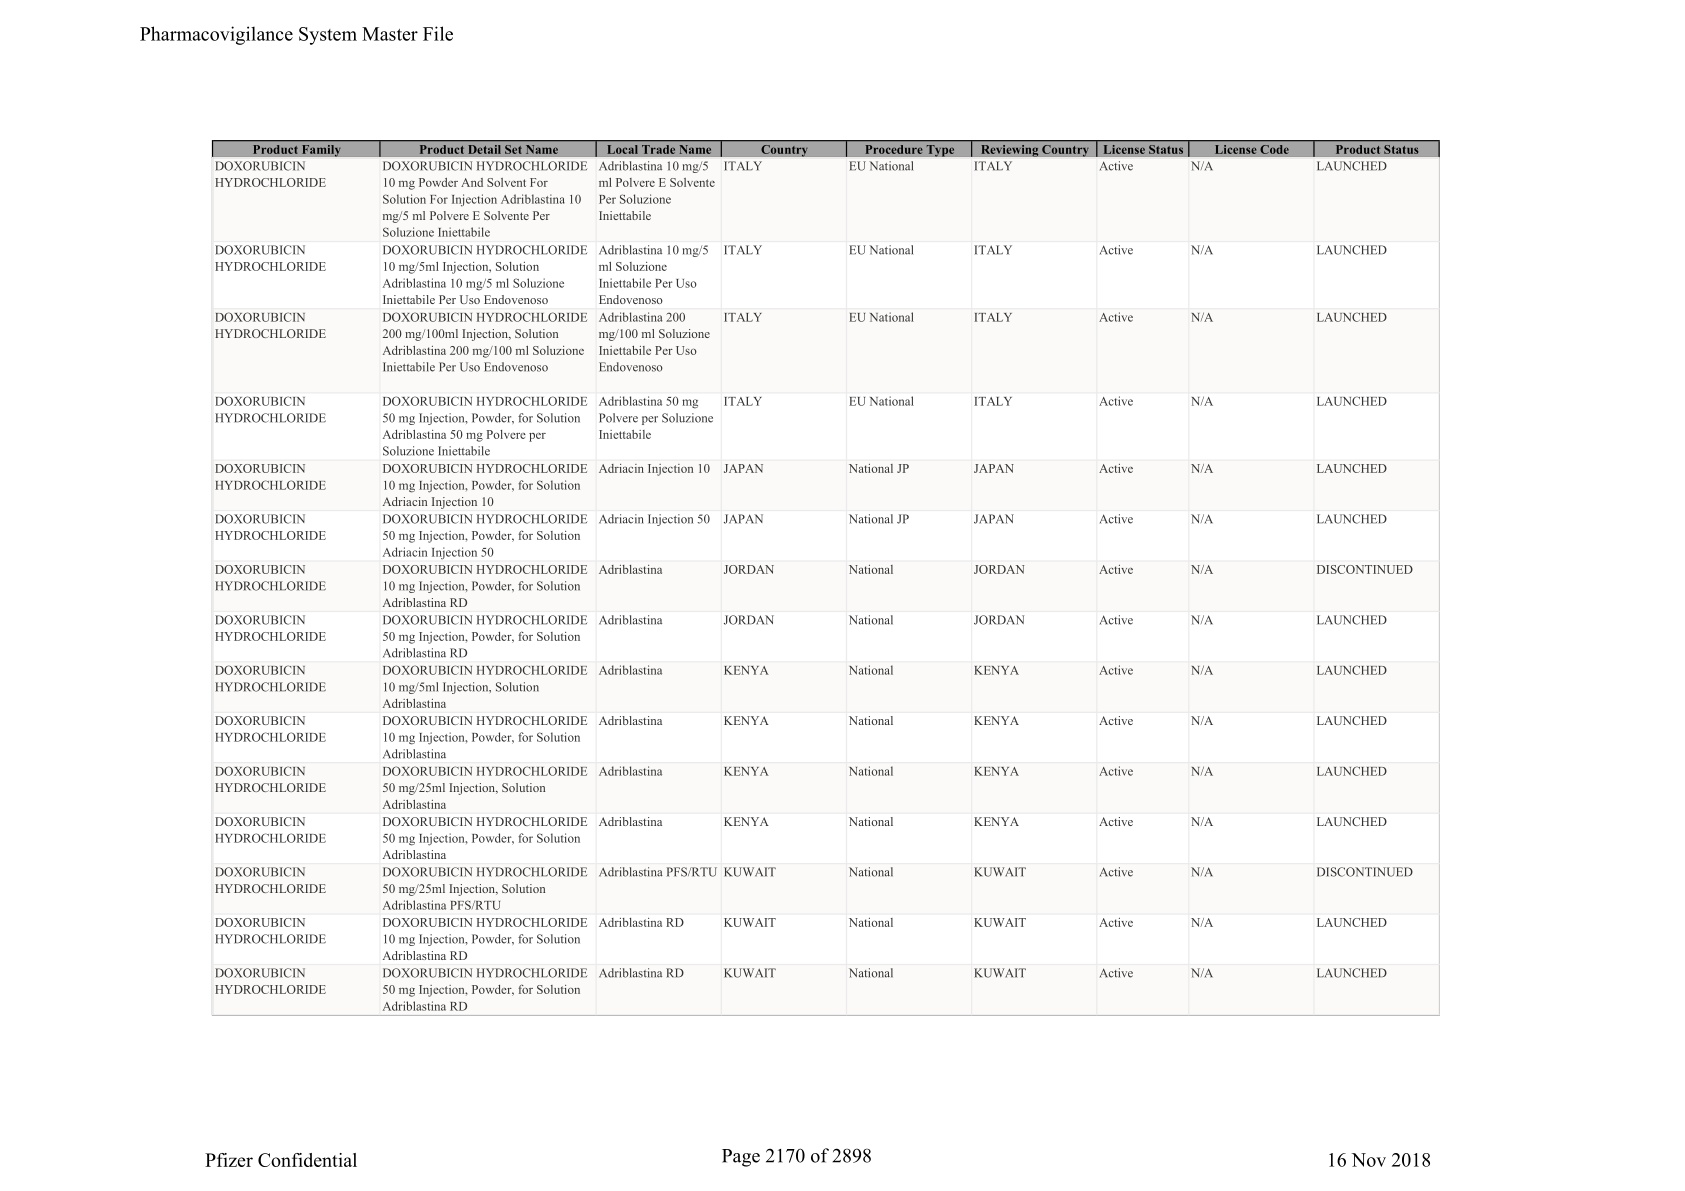full_lined: (210, 139, 1440, 1017)
